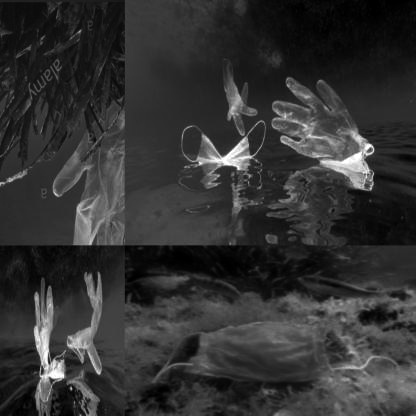Mask: (149, 318, 406, 382), (177, 118, 271, 186), (40, 343, 66, 381)
glove: (270, 51, 382, 204), (44, 79, 124, 245), (208, 52, 266, 134), (67, 268, 105, 380), (33, 277, 59, 357)
